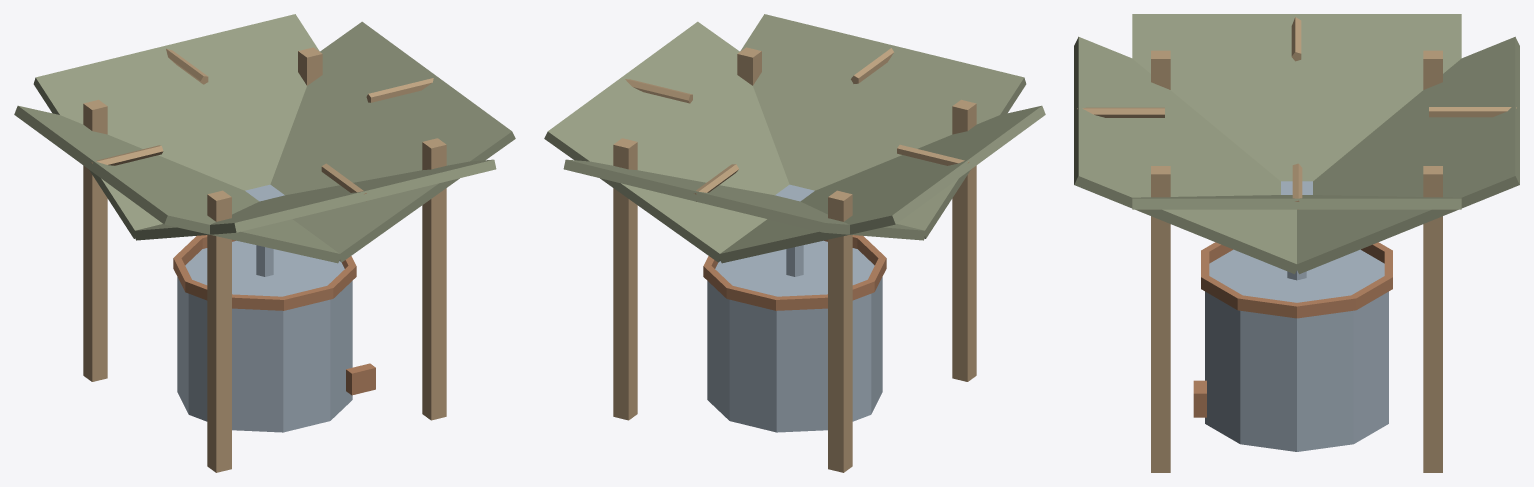
File: wipe-day-survival-island-water-catcher-28848752__27469.glb
3 renders of one model, left to right at view 1: azimuth 30°, elevation 25°; view 2: azimuth 150°, elevation 25°; view 3: azimuth 270°, elevation 25°, orthographic. The views are drawn at different scales.
Visible parts, largest first — view 1: water-catcher; view 2: water-catcher; view 3: water-catcher.
Boxes of the visible parts, x1,y1,x2,y2 form: water-catcher: (14,14,515,472); water-catcher: (544,14,1045,472); water-catcher: (1074,14,1519,472).
Size of the model in its own units: 2.03 by 1.53 by 2.03.
